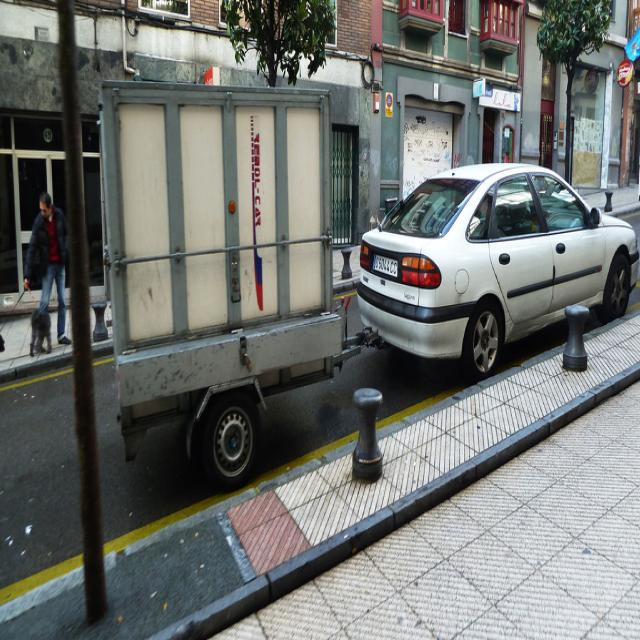car: (344, 154, 639, 382)
